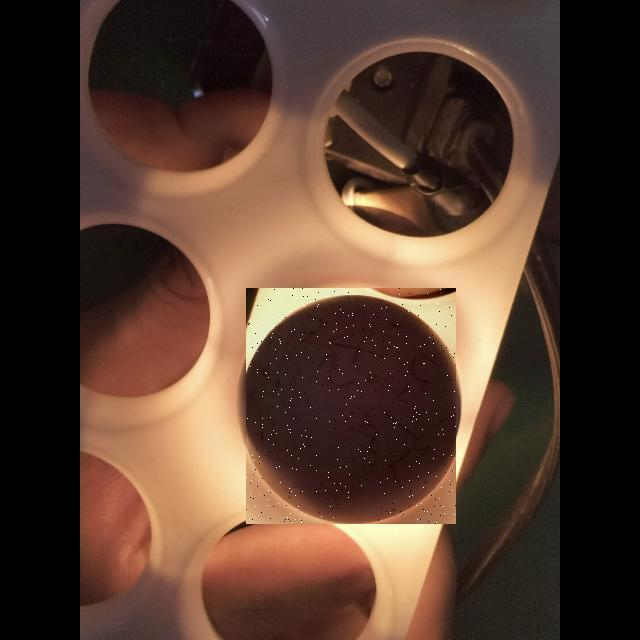A - Good: (244, 284, 459, 523)
